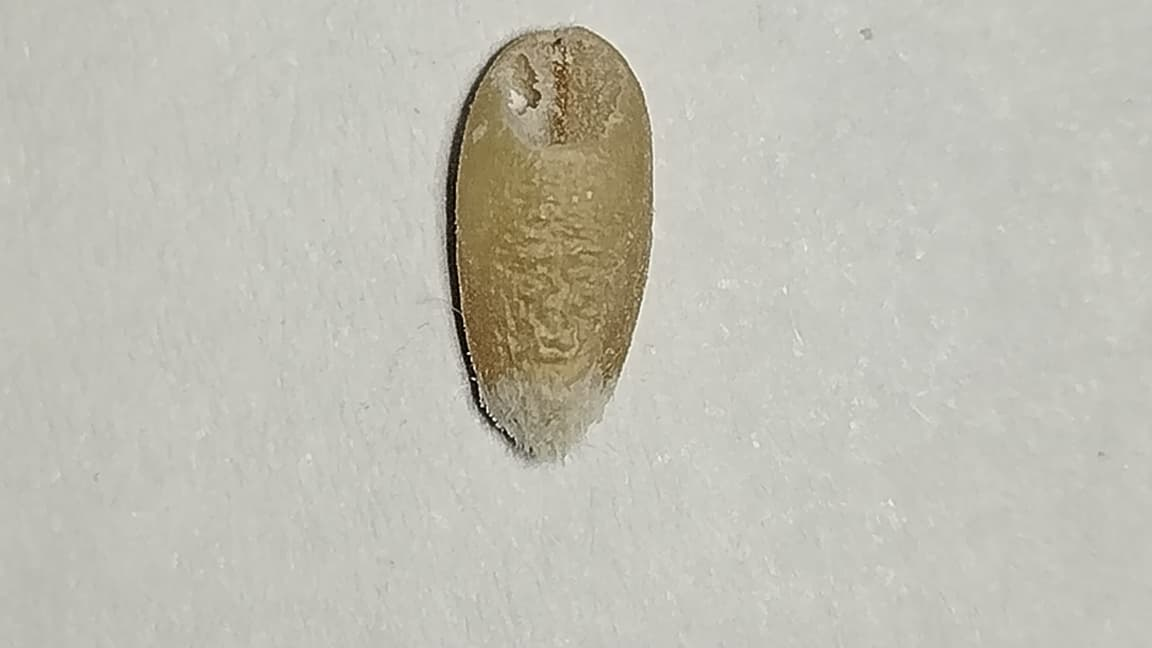damage: (448, 25, 656, 460)
insectdamage: (491, 30, 632, 172)
